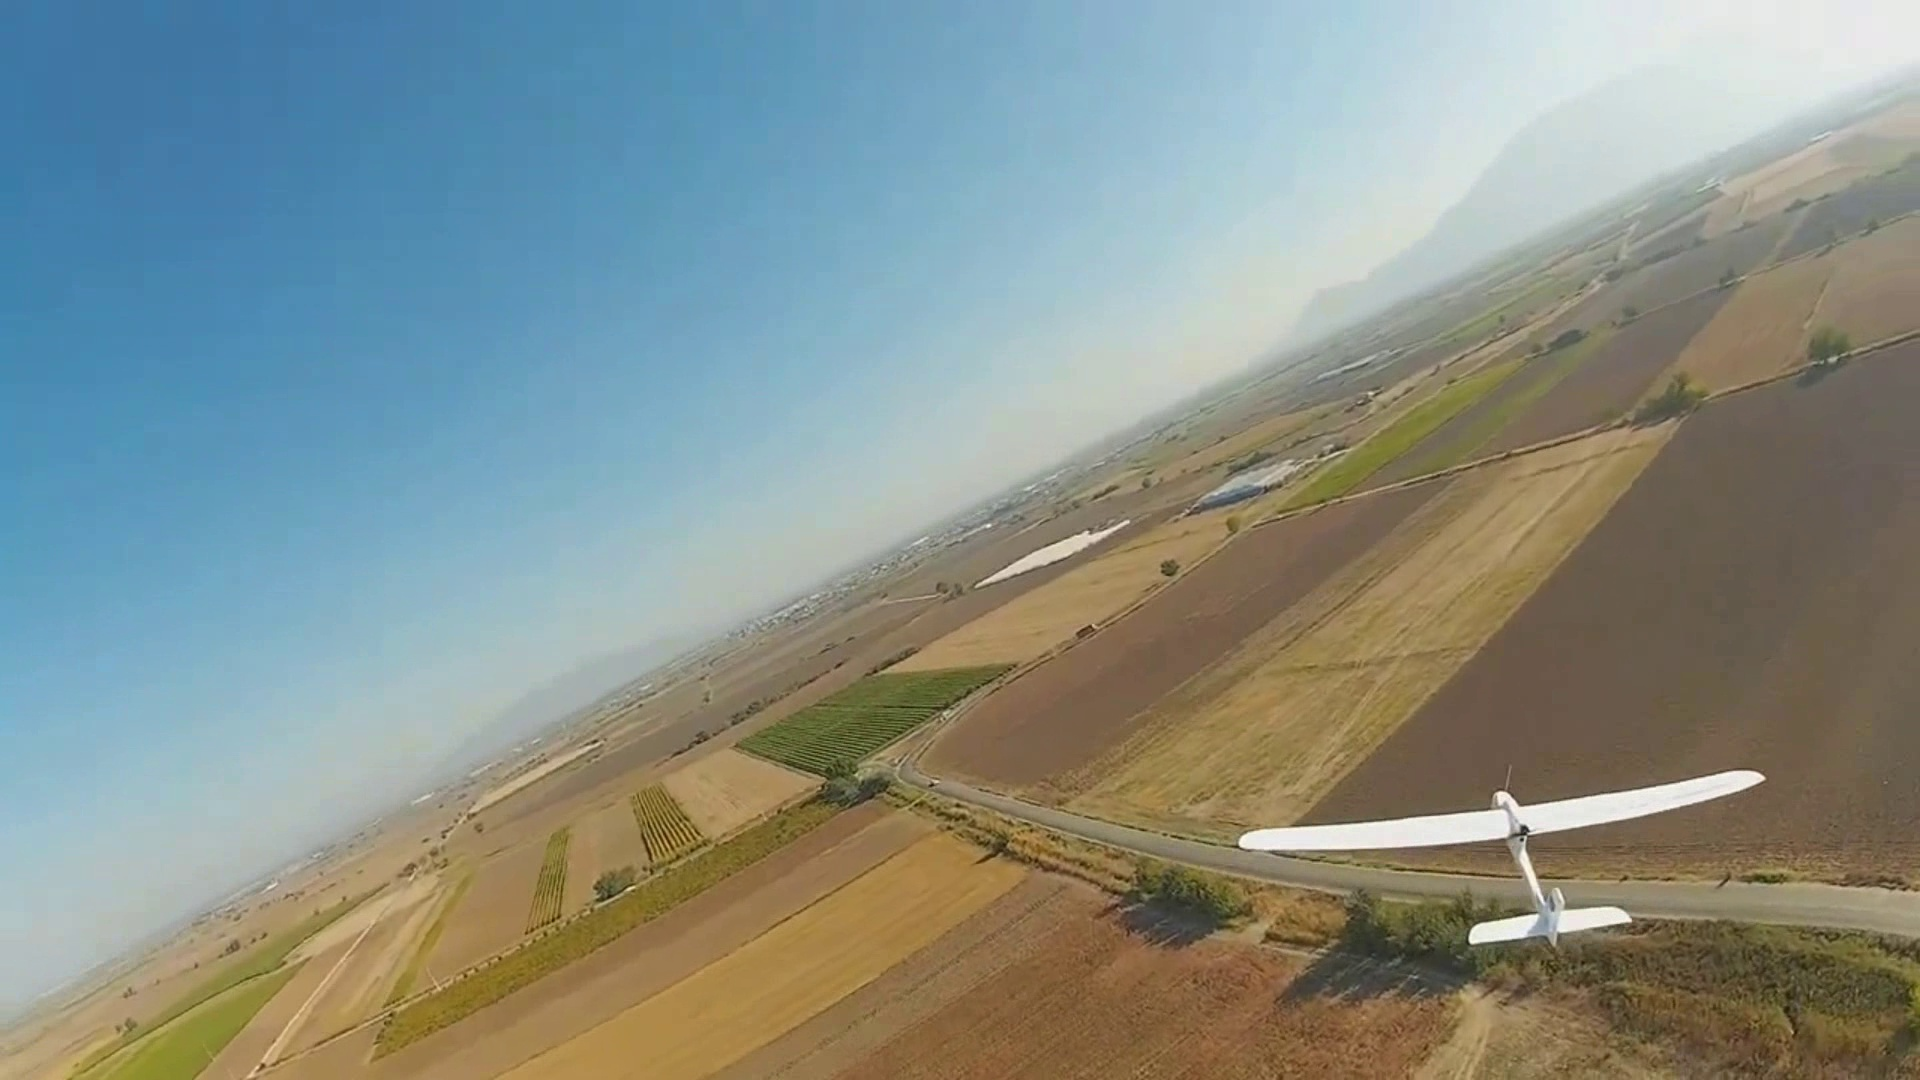airplane: (861, 764, 1764, 949), (1240, 767, 1766, 947)
